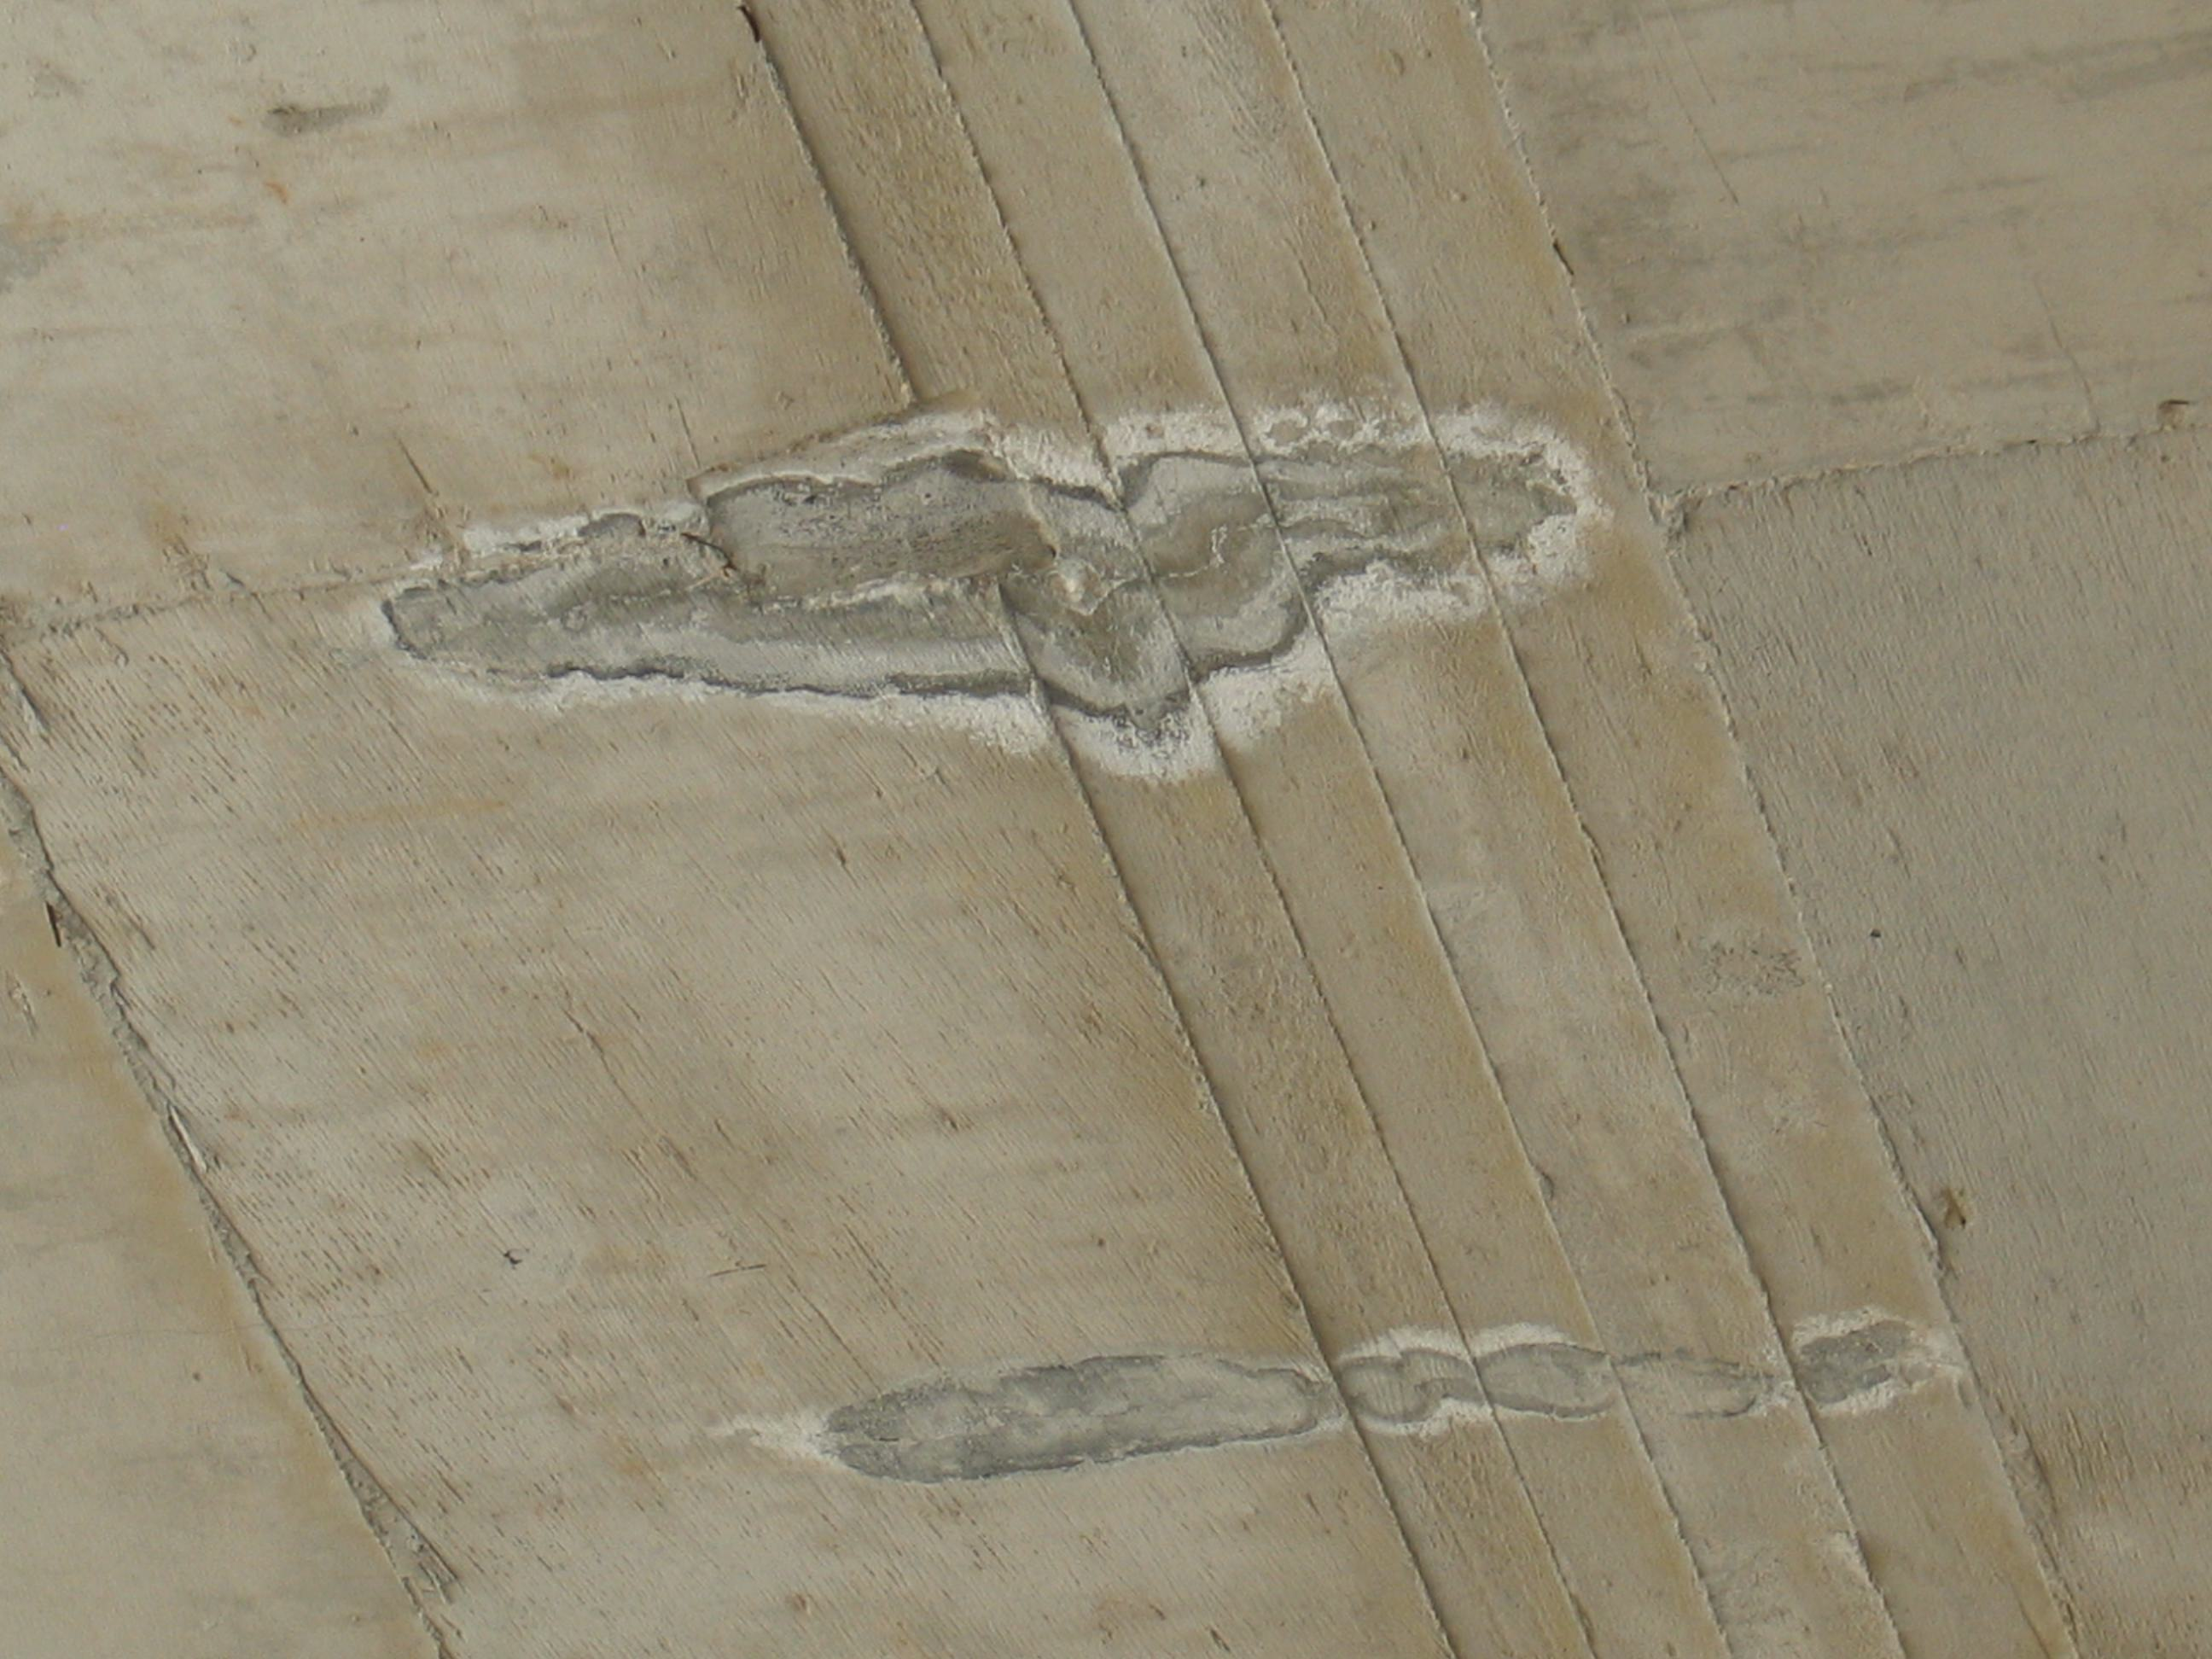Corrosion: (380, 422, 1578, 749), (808, 1319, 1925, 1485)
